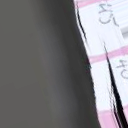crackTip: (97, 40, 127, 128)
